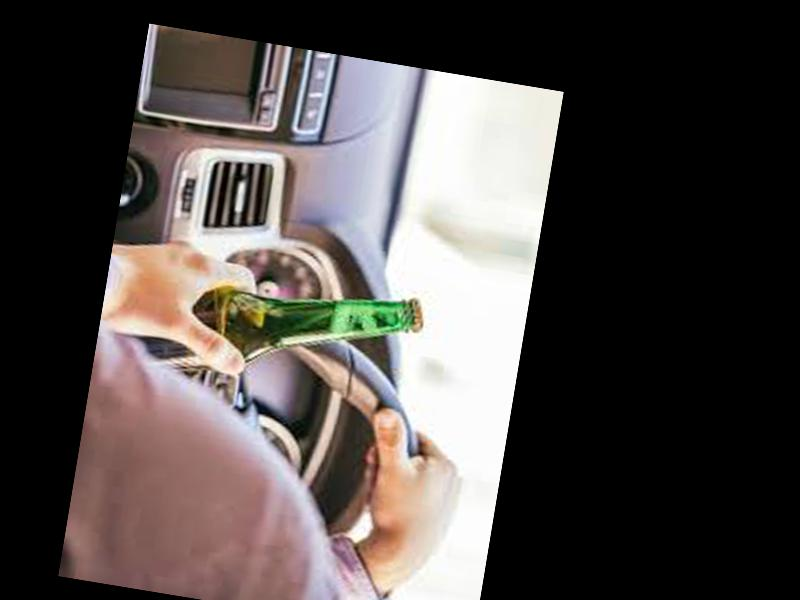Beer: (106, 249, 429, 413)
